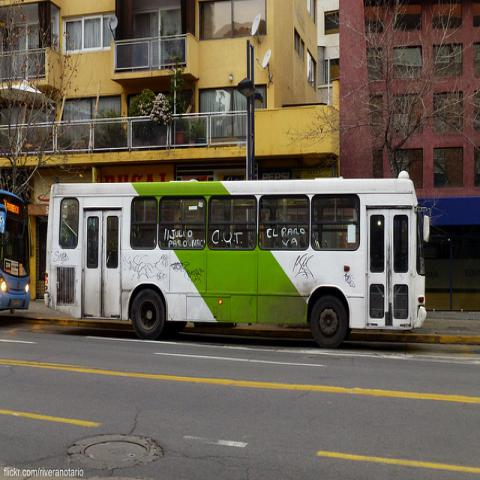bus: (46, 169, 431, 351), (2, 193, 36, 307)
